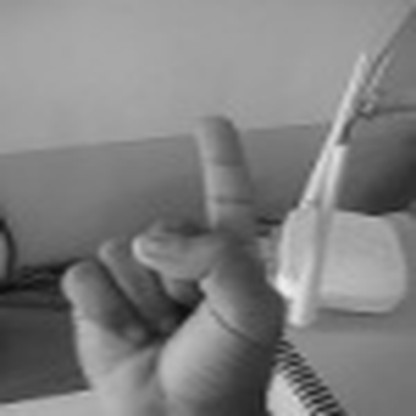d: (55, 112, 287, 411)
